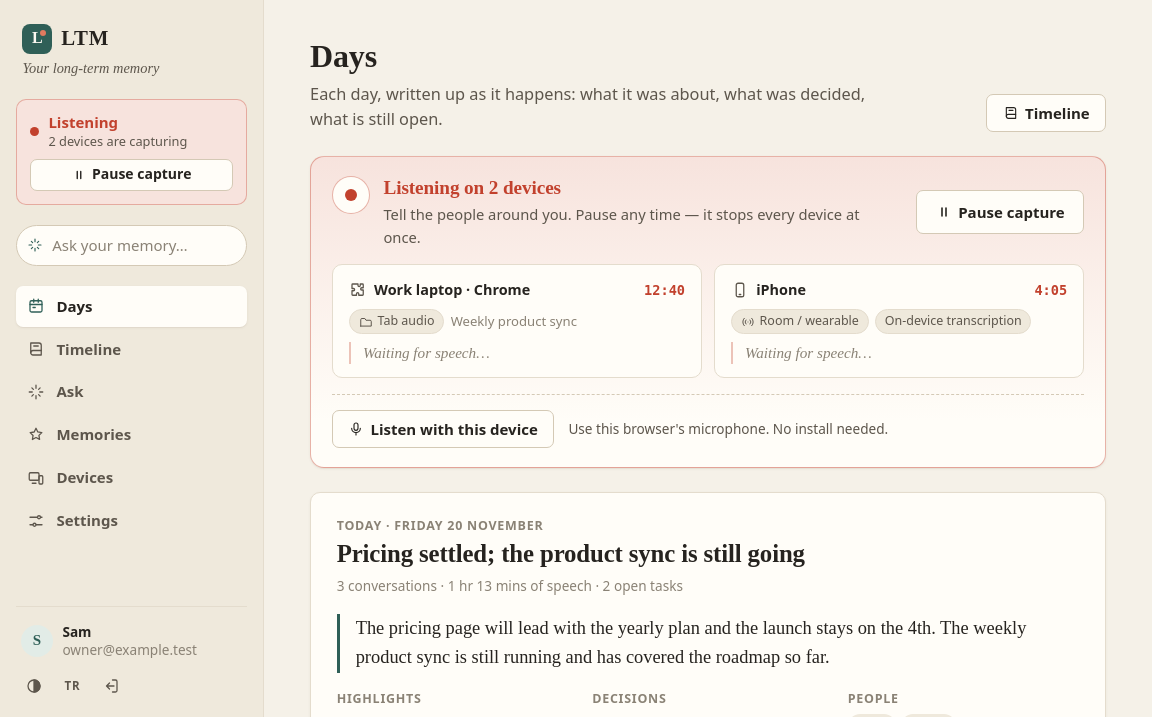
it: ask thread › runs a question sent from the sidebar box
This screenshot has width=1152, height=717.
Type "What did I promise?" into the search field labelled "Ask your memory" at (132, 245), box [16, 225, 247, 266]
Then press Enter
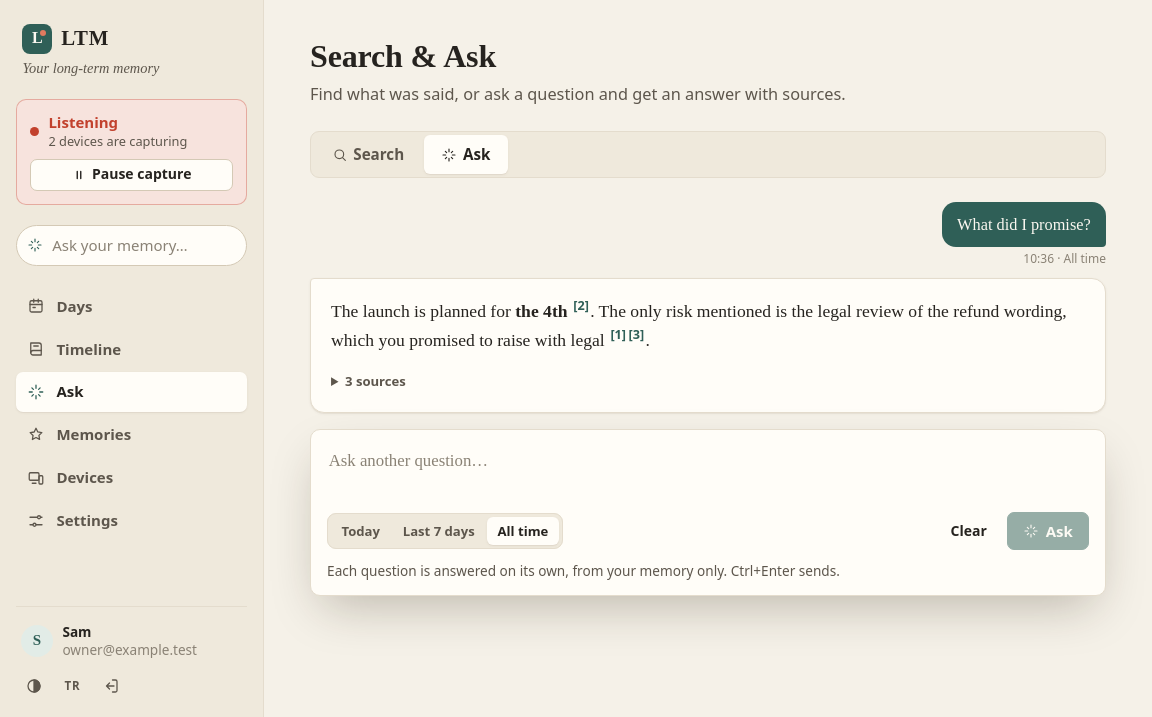
Expected: the list named "Questions and answers" is shown, [310, 202, 1106, 413]
